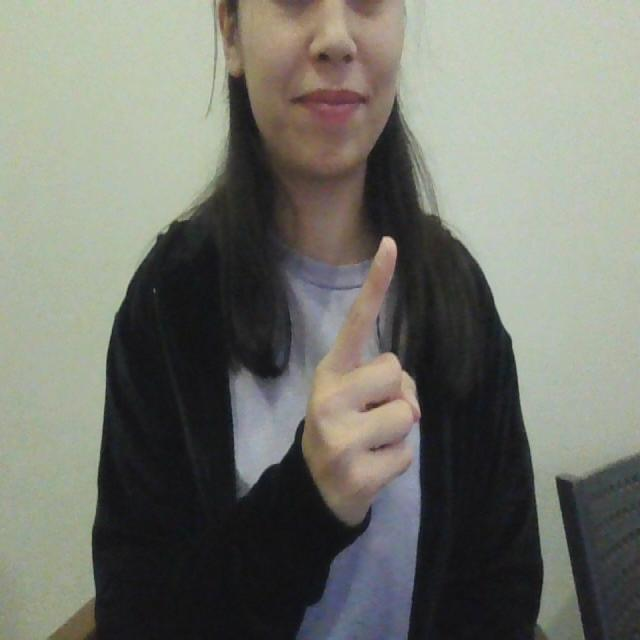Hayir: (294, 220, 433, 564)
